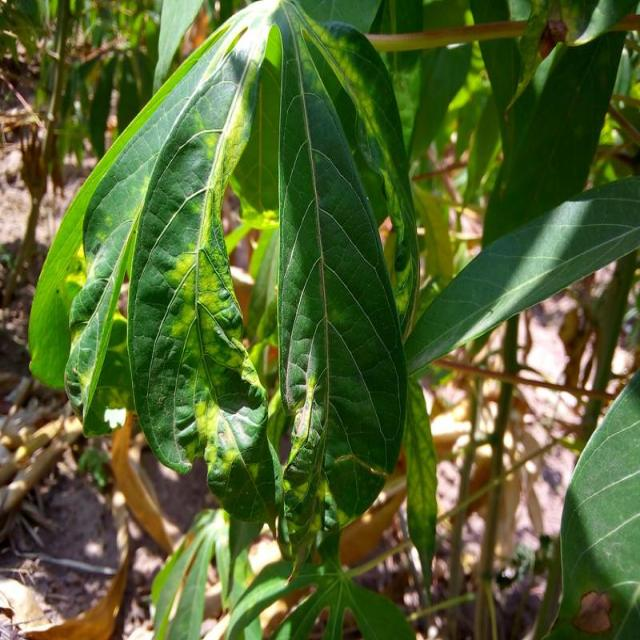cassava leaf: (28, 0, 419, 545), (276, 5, 411, 529), (547, 366, 640, 638)
